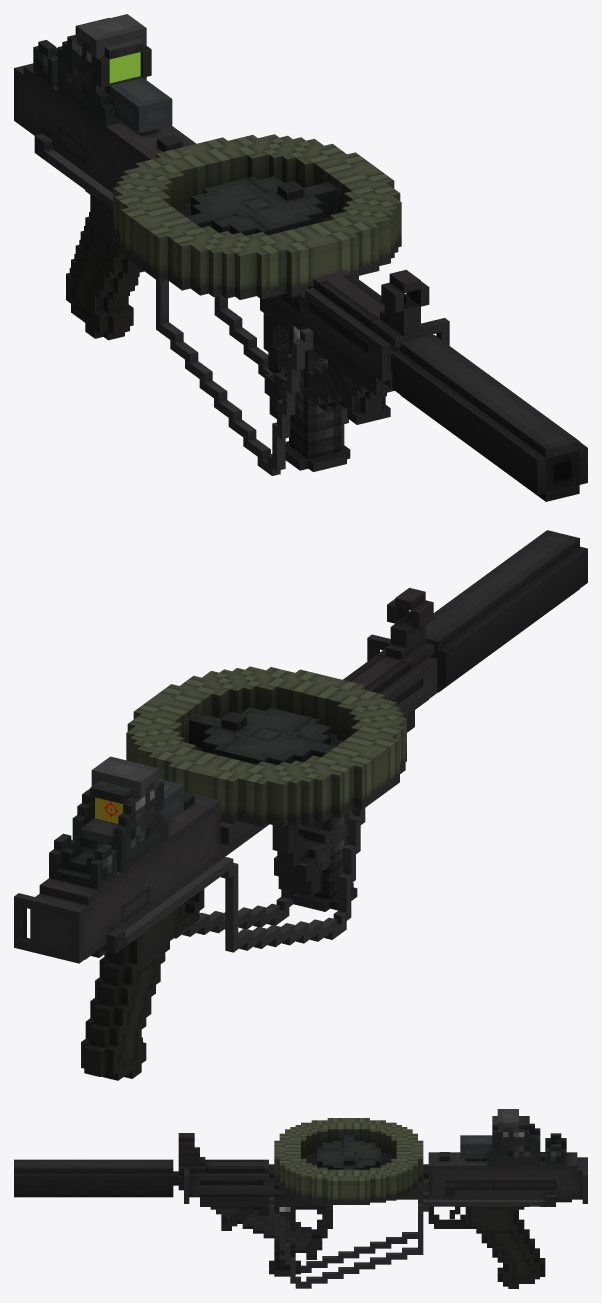
Rendered from RD_MGV176.glb.
3 renders of one model, top to bottom at view 1: azimuth 30°, elevation 25°; view 2: azimuth 150°, elevation 25°; view 3: azimuth 270°, elevation 25°, orthographic. The views are drawn at different scales.
Parts seen in each view (by area): view 1: MGV176_CLIP, MGV176, SILENCER_6X6, MGV176_BUTTSTOCK, GRIP2, SCOPE_EOTECH, GRIP1, SCOPE_HOLOSUN, SCOPE_AIMPOINT; view 2: MGV176_CLIP, MGV176, SILENCER_6X6, MGV176_BUTTSTOCK, SCOPE_EOTECH, GRIP2, SCOPE_HOLOSUN, GRIP1; view 3: MGV176, MGV176_CLIP, SILENCER_6X6, MGV176_BUTTSTOCK, GRIP2, SCOPE_EOTECH, GRIP1, SCOPE_HOLOSUN, SCOPE_AIMPOINT.
Part boxes in pixels (bbox=[...]): MGV176_CLIP: bbox=[113, 134, 401, 299]; MGV176: bbox=[14, 40, 449, 388]; SILENCER_6X6: bbox=[392, 334, 587, 501]; MGV176_BUTTSTOCK: bbox=[34, 133, 348, 475]; GRIP2: bbox=[260, 298, 394, 424]; SCOPE_EOTECH: bbox=[57, 18, 172, 133]; GRIP1: bbox=[284, 310, 350, 471]; SCOPE_HOLOSUN: bbox=[57, 14, 146, 118]; SCOPE_AIMPOINT: bbox=[91, 39, 151, 93]; MGV176_CLIP: bbox=[126, 666, 406, 827]; MGV176: bbox=[14, 588, 437, 1080]; SILENCER_6X6: bbox=[425, 530, 587, 692]; MGV176_BUTTSTOCK: bbox=[99, 808, 365, 953]; SCOPE_EOTECH: bbox=[72, 779, 183, 872]; GRIP2: bbox=[272, 710, 414, 896]; SCOPE_HOLOSUN: bbox=[83, 756, 159, 870]; GRIP1: bbox=[289, 812, 357, 911]; MGV176: bbox=[173, 1133, 587, 1288]; MGV176_CLIP: bbox=[274, 1118, 423, 1204]; SILENCER_6X6: bbox=[14, 1159, 173, 1197]; MGV176_BUTTSTOCK: bbox=[269, 1194, 555, 1288]; GRIP2: bbox=[200, 1197, 332, 1259]; SCOPE_EOTECH: bbox=[460, 1116, 540, 1165]; GRIP1: bbox=[269, 1197, 300, 1276]; SCOPE_HOLOSUN: bbox=[497, 1109, 539, 1165]; SCOPE_AIMPOINT: bbox=[492, 1116, 502, 1149].
Size of the model in its own units: 0.2755 by 0.3444 by 1.06.
Materials: 10 (10 with a texture image).
